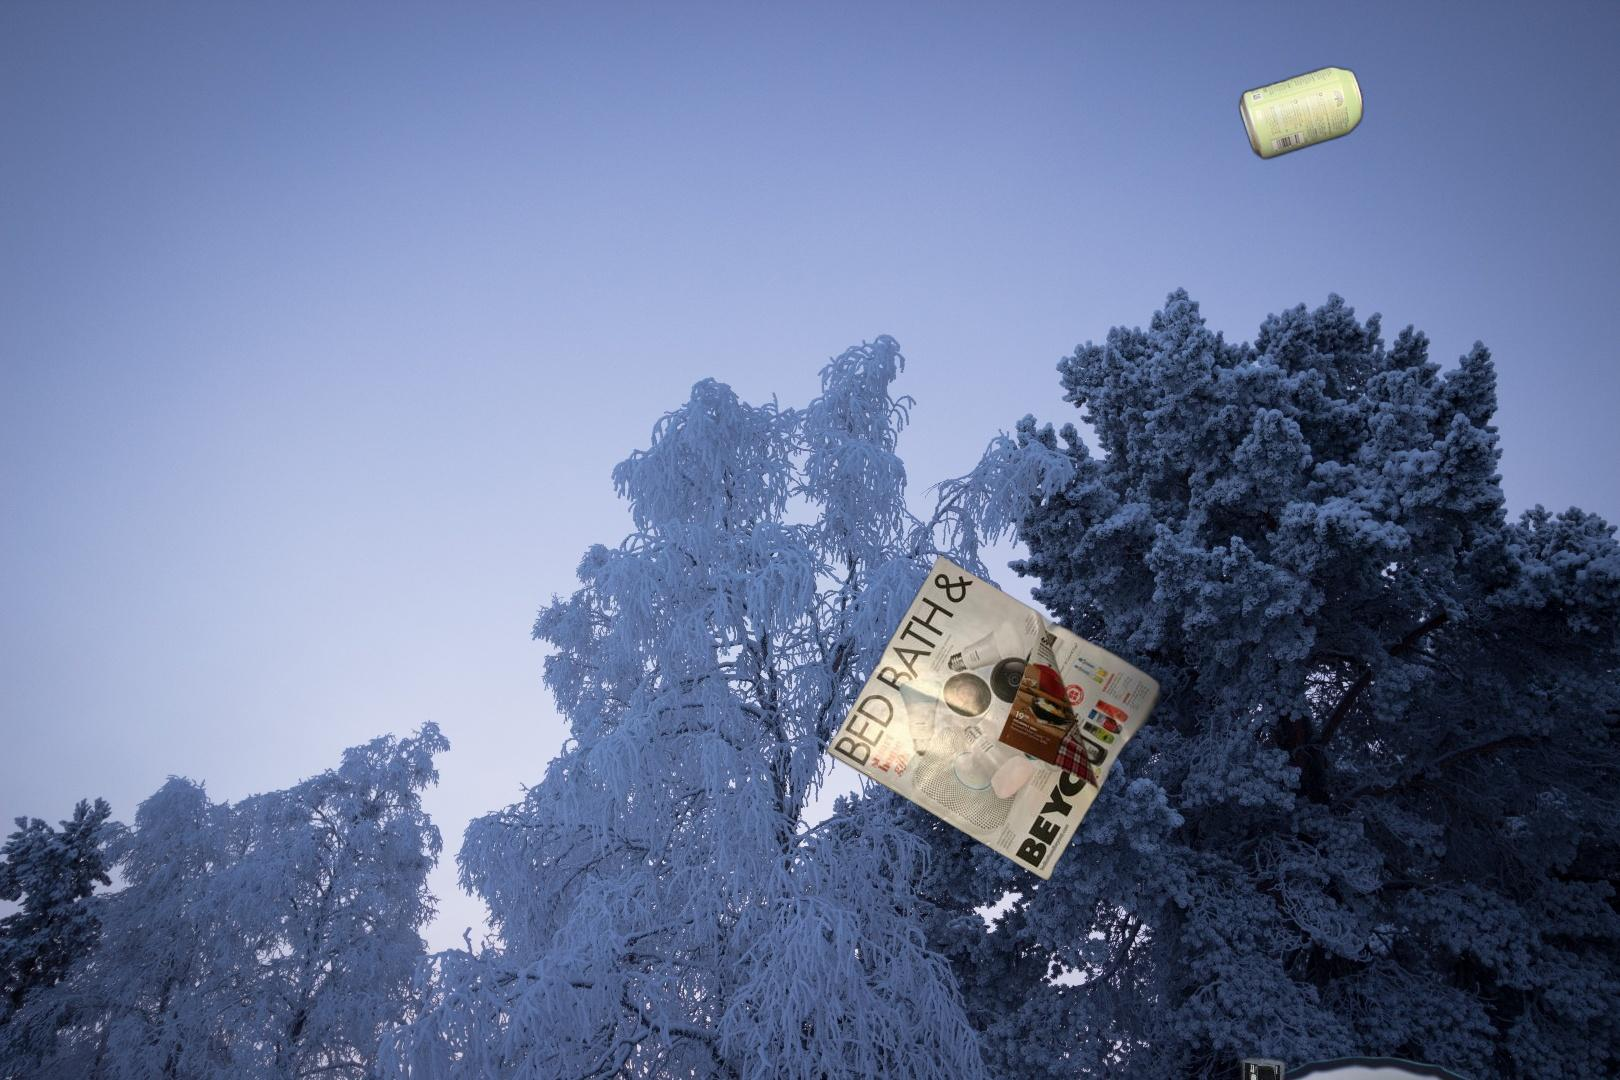biological: (939, 1052, 1562, 1080)
metal-cans: (1235, 60, 1368, 166)
paper: (822, 552, 1166, 884)
penholder: (1227, 1055, 1293, 1080)
